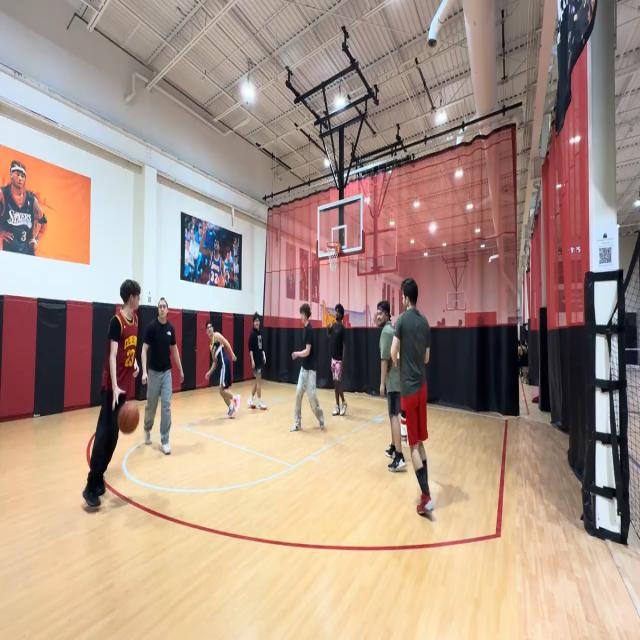Basketball: (119, 400, 140, 434)
Basketball Rim: (326, 242, 340, 270)
